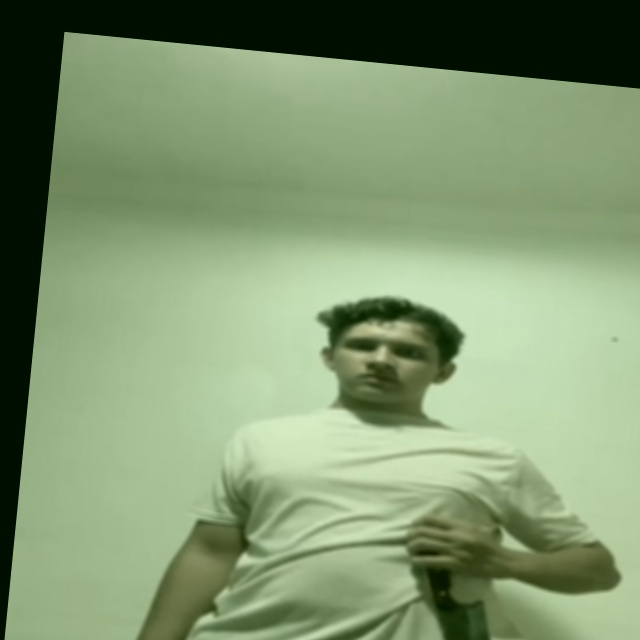Sharp-Object: (425, 596, 517, 640)
